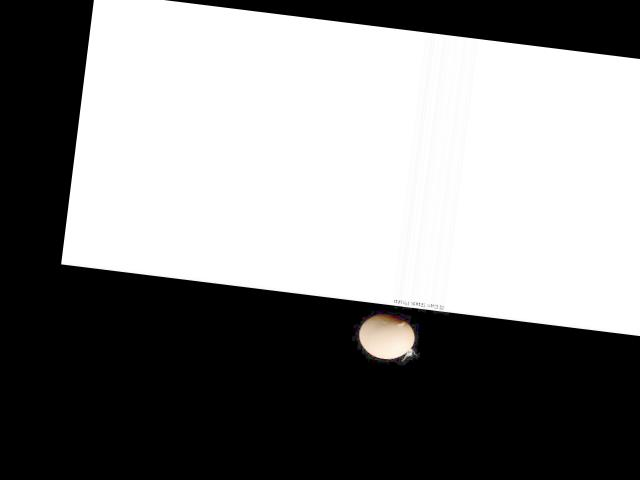egg: (356, 310, 416, 361)
